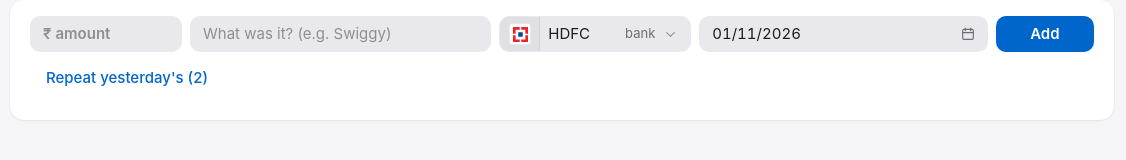
Test case: repeats only yesterday's entries that today doesn't have
This screenshot has width=1126, height=160.
Click the button "Repeat yesterday's (2)": point(127, 78) [30, 60, 224, 96]
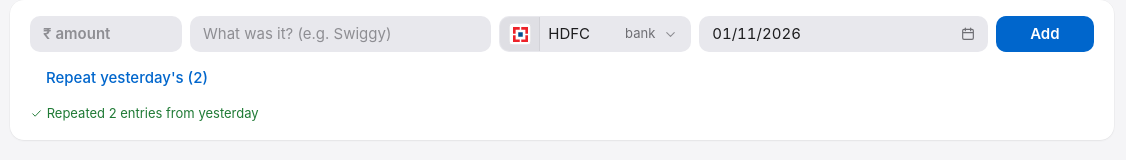
Expected: the text "Repeated 2 entries from yesterday" is shown, [30, 105, 259, 121]
